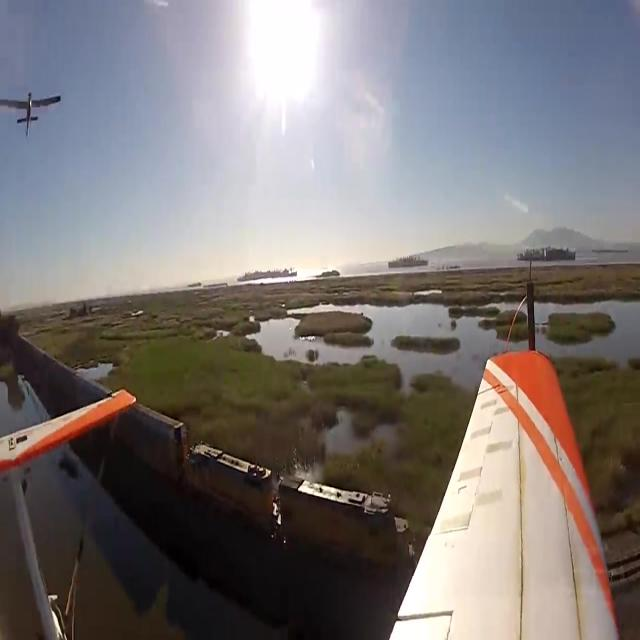iha: (0, 20, 63, 79)
